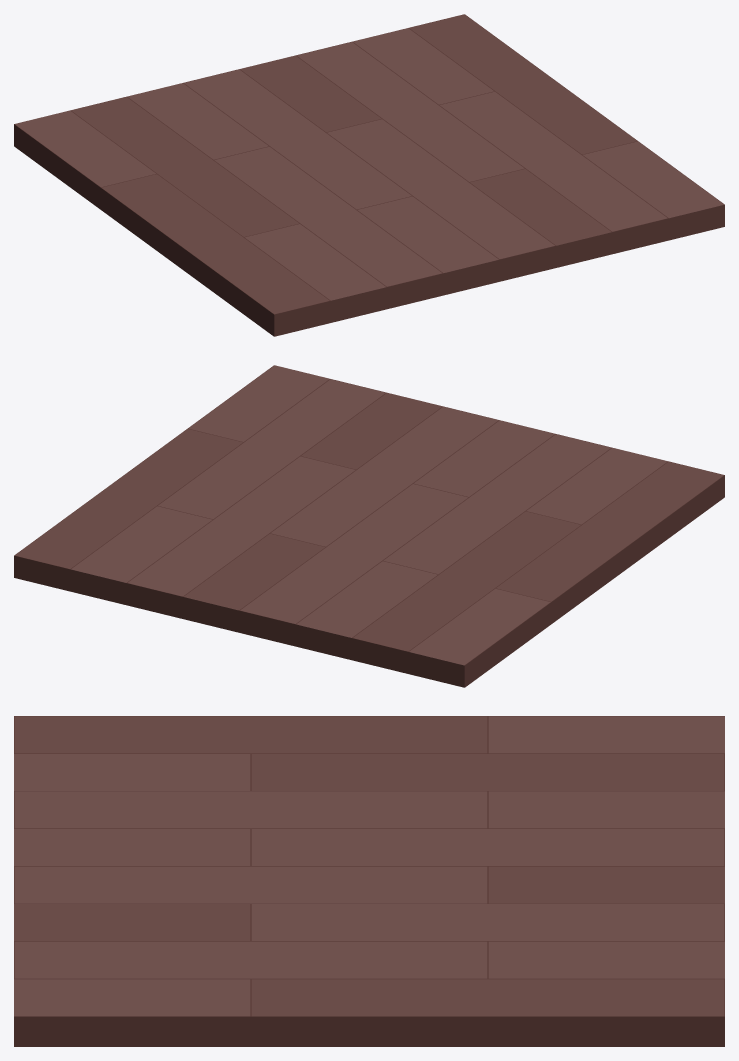
Rendered from floor_office_opt2.fbx.
3 views of the same model, one above another, from view 1: azimuth 30°, elevation 25°; view 2: azimuth 150°, elevation 25°; view 3: azimuth 270°, elevation 25° (orthographic). The views are drawn at different scales.
Visible parts, largest first — view 1: Floor_03; view 2: Floor_03; view 3: Floor_03.
Part boxes in pixels (<box>): Floor_03: <box>14,14,724,336</box>; Floor_03: <box>14,365,724,687</box>; Floor_03: <box>14,716,724,1046</box>.
Size of the model in its own units: 450 by 21.22 by 450.
